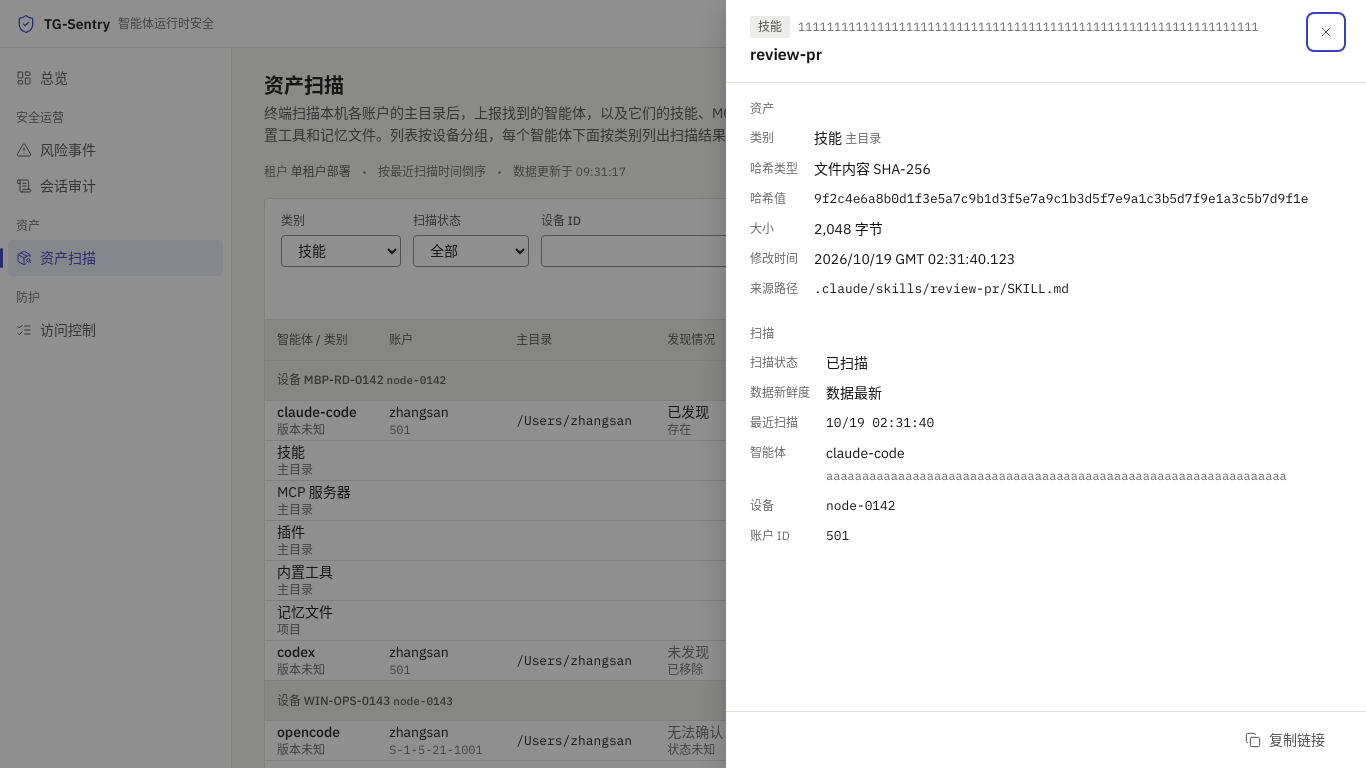
Test: asset detail drawer › closes from the close button back to the ledger with filters kept
Click the button named "关闭资产详情": (1326, 32) [1310,16,1342,48]
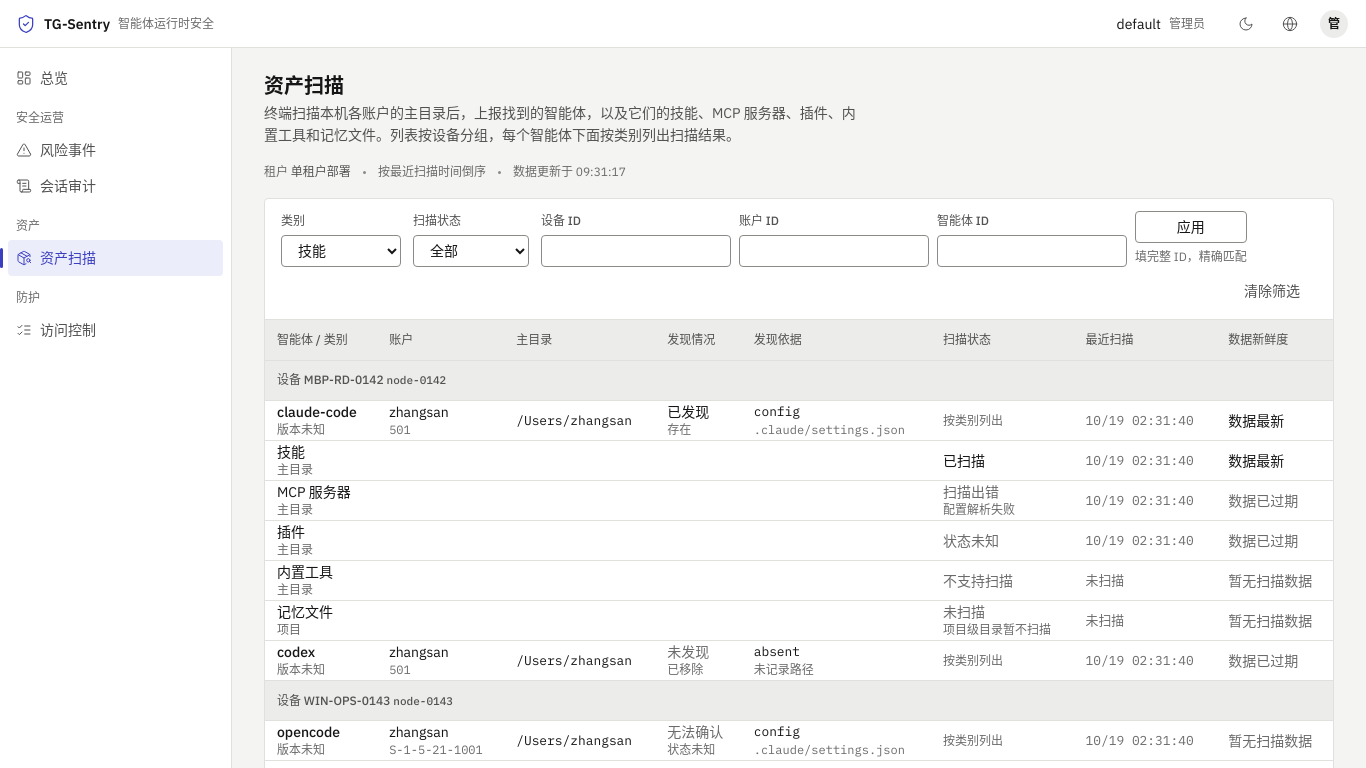
Check: the dialog is gone
